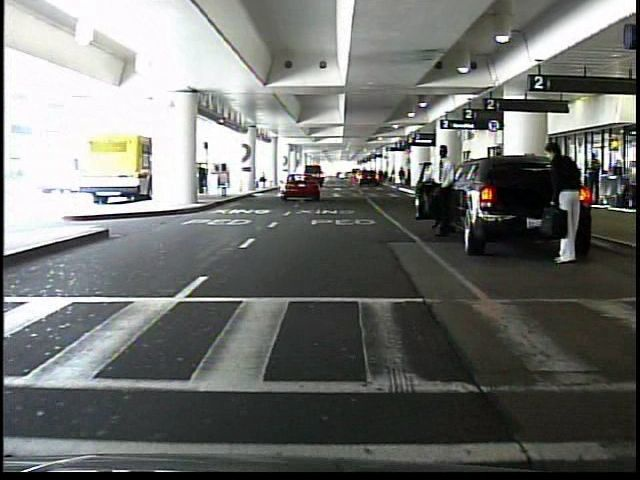person: (539, 139, 585, 265), (424, 145, 454, 244), (585, 154, 599, 206), (195, 160, 210, 196), (398, 166, 409, 189)
